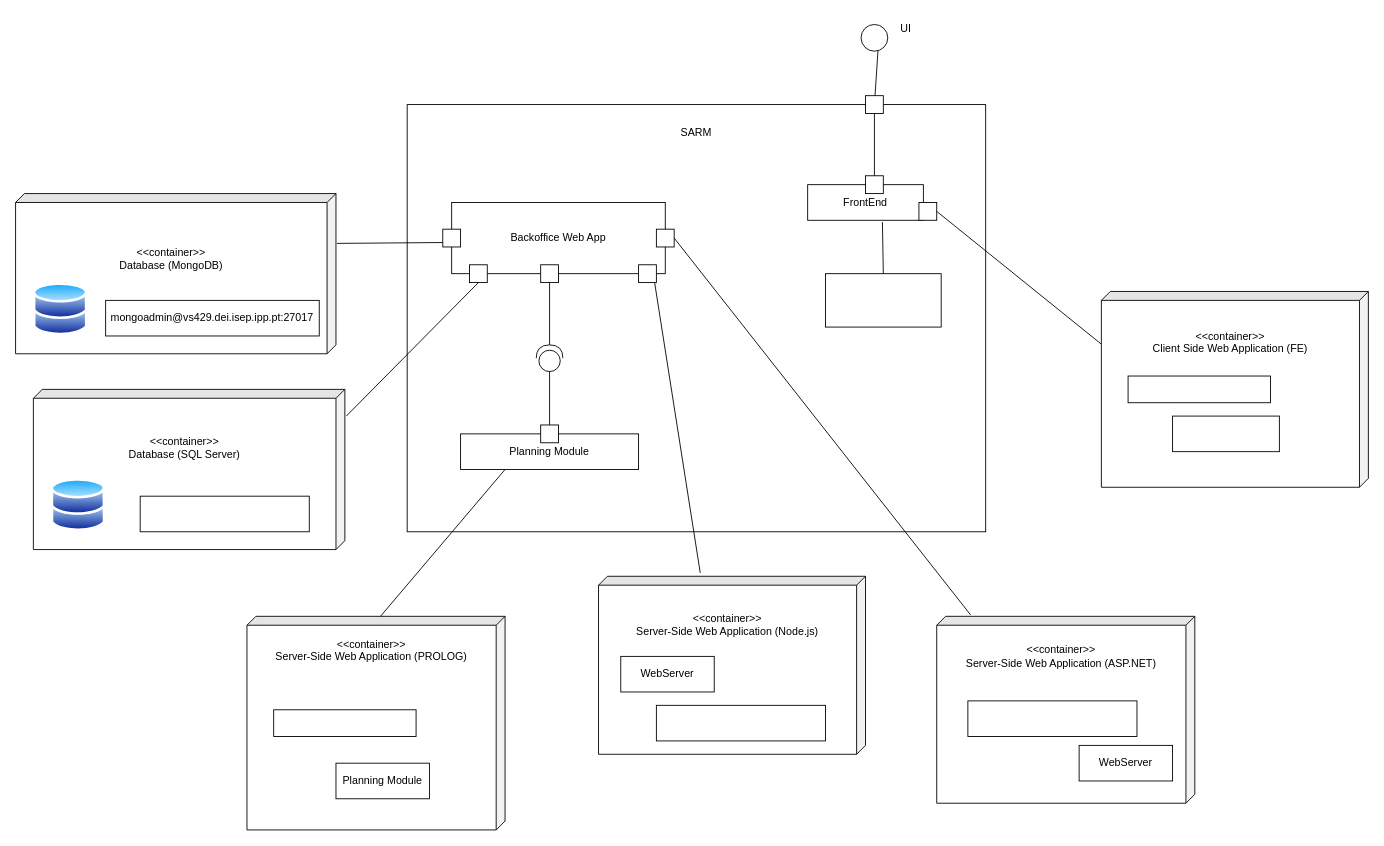
Some shapes in this 1384 by 846 pixel diagram are drawn without their labels. Here are the shapes that lost their labels. From the top down, the centre of each, then its label:
At (x=883, y=300): "3D Visualization Module".
At (x=1198, y=389): "http://localhost:4000".
At (x=1225, y=433): "Web Client".
At (x=224, y=513): "vs-gate-s1.dei.isep.ipp.pt:11435".
At (x=344, y=722): "http://localhost:5000".
At (x=740, y=722): "https://vs211.dei.isep.ipp.pt:3000".
At (x=1052, y=718): "https://vs550.dei.isep.ipp.pt:7252".
